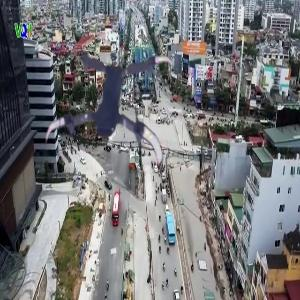drone: (42, 46, 180, 184)
